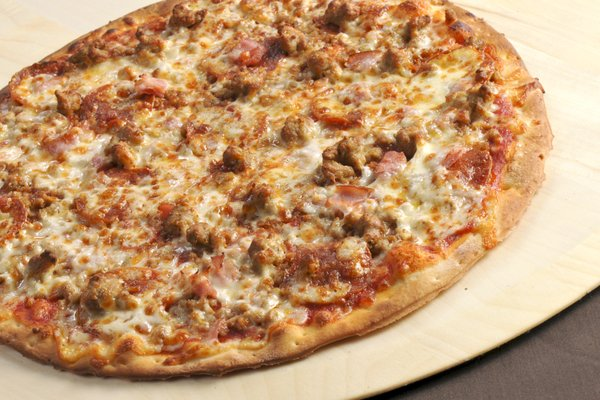sandwich: (0, 0, 545, 379)
